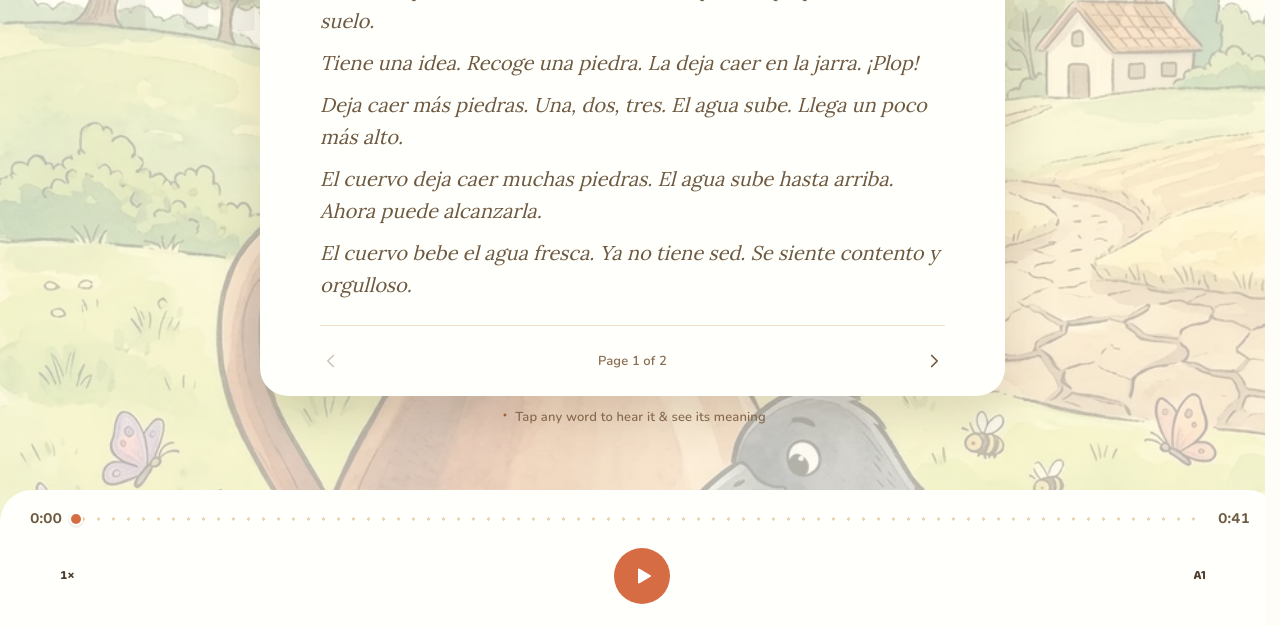
Test: ReaderScreen › paginates and disables the chevrons at the bounds
The image size is (1280, 626).
(page scrolled)
Check: the text "Page 1 of 2" is shown, box [598,352,667,370]
Check: the button named "Previous page" is disabled, box [320,350,342,372]
What coordinates should you click on to do the following:
click the button named "Next page"
I would click on:
 (934, 361)
Its box is [923,350,945,372].
(page scrolled)
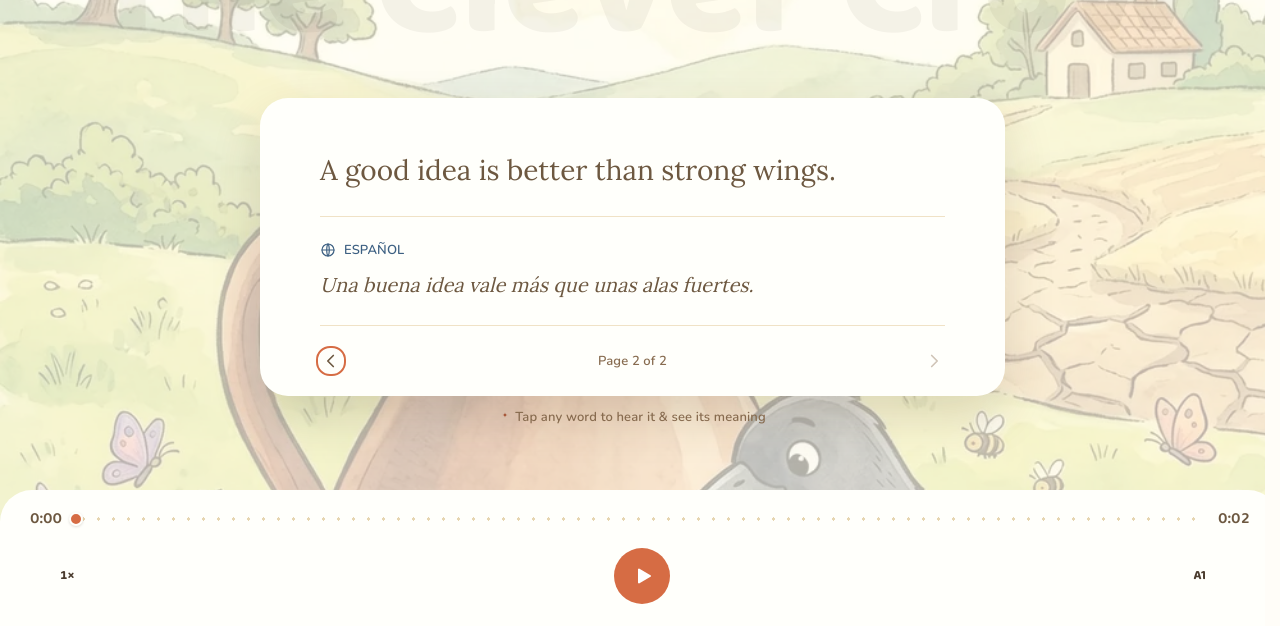
Check: the text "Page 2 of 2" is shown, box [598,352,667,370]
Check: the button named "Next page" is disabled, box [923,350,945,372]
Check: the button named "Previous page" is enabled, box [320,350,342,372]
